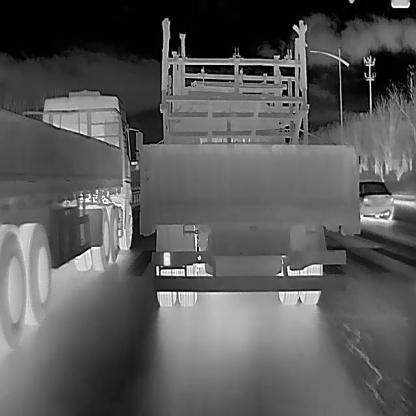car: (355, 180, 394, 222)
truck: (138, 69, 359, 306), (0, 89, 143, 352)
